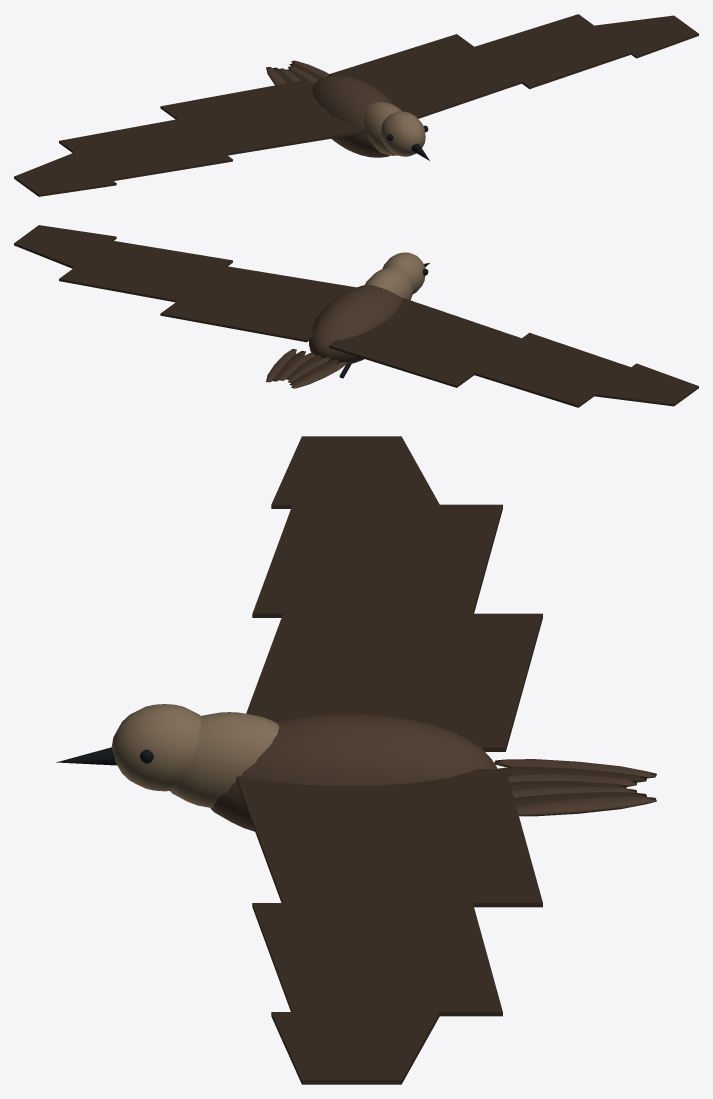
The model's file is v3-black-kite-low.glb.
3 renders of one model, top to bottom at view 1: azimuth 30°, elevation 25°; view 2: azimuth 150°, elevation 25°; view 3: azimuth 270°, elevation 25°, orthographic. The views are drawn at different scales.
Parts seen in each view (by area): view 1: feather-cover-right-0, feather-cover-left-0, feather-cover-right-1, feather-cover-left-1, surface-detail (×3), body, feather-cover-right-2, feather-cover-left-2; view 2: feather-cover-right-0, feather-cover-left-0, feather-cover-left-1, feather-cover-right-1, body, surface-detail (×3), feather-cover-right-2, feather-cover-left-2; view 3: feather-cover-left-0, feather-cover-right-0, feather-cover-left-1, feather-cover-right-1, surface-detail (×3), body, feather-cover-left-2, feather-cover-right-2.
Part boxes in pixels (left/top/right/bottom): feather-cover-right-0: left=160, top=79, right=366, bottom=155; feather-cover-left-0: left=329, top=34, right=521, bottom=118; feather-cover-right-1: left=59, top=119, right=232, bottom=180; feather-cover-left-1: left=474, top=14, right=631, bottom=89; surface-detail (×3): left=266, top=60, right=425, bottom=156; body: left=312, top=75, right=393, bottom=157; feather-cover-right-2: left=14, top=152, right=116, bottom=196; feather-cover-left-2: left=595, top=15, right=698, bottom=58; feather-cover-right-0: left=329, top=298, right=521, bottom=387; feather-cover-left-0: left=160, top=266, right=356, bottom=342; feather-cover-left-1: left=59, top=240, right=232, bottom=302; feather-cover-right-1: left=474, top=332, right=630, bottom=407; body: left=309, top=284, right=402, bottom=364; surface-detail (×3): left=266, top=252, right=425, bottom=388; feather-cover-right-2: left=594, top=363, right=698, bottom=406; feather-cover-left-2: left=14, top=225, right=116, bottom=268; feather-cover-left-0: left=236, top=769, right=542, bottom=907; feather-cover-right-0: left=246, top=613, right=542, bottom=751; feather-cover-left-1: left=252, top=903, right=502, bottom=1016; feather-cover-right-1: left=252, top=504, right=502, bottom=617; surface-detail (×3): left=111, top=704, right=656, bottom=816; body: left=210, top=713, right=497, bottom=831; feather-cover-left-2: left=271, top=1012, right=439, bottom=1084; feather-cover-right-2: left=271, top=436, right=439, bottom=508.
Bounding box in the file's own units: 1.5 × 0.1518 × 0.5917.
